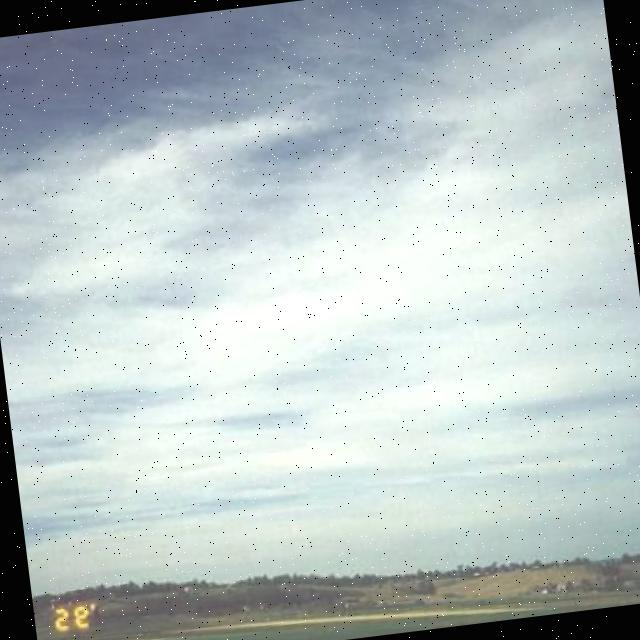Cs: (1, 1, 640, 530)
